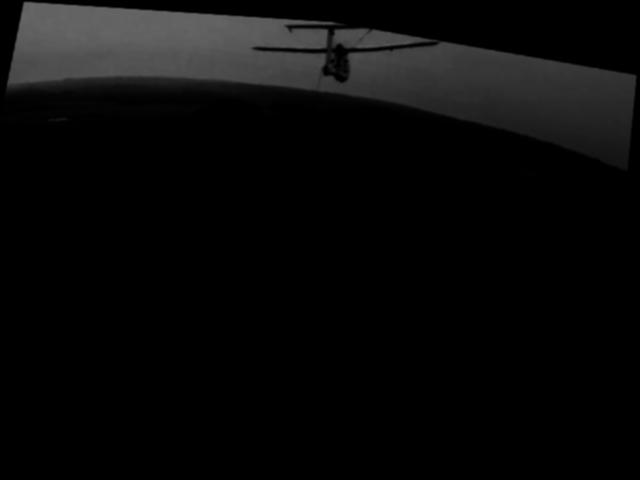hedef: (227, 12, 449, 113)
